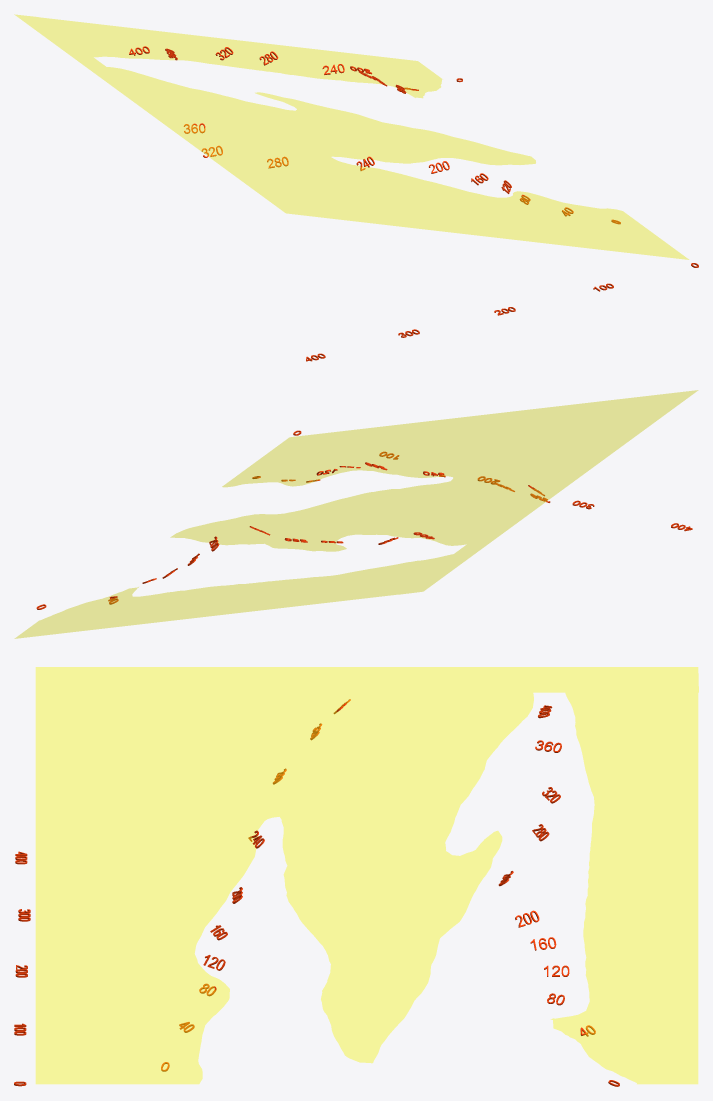
File: RioRastro2b.gltf
3 renders of one model, top to bottom at view 1: azimuth 30°, elevation 25°; view 2: azimuth 150°, elevation 25°; view 3: azimuth 270°, elevation 25°, orthographic. The views are drawn at different scales.
Size of the model in its own units: 1910 by 644 by 2243.
